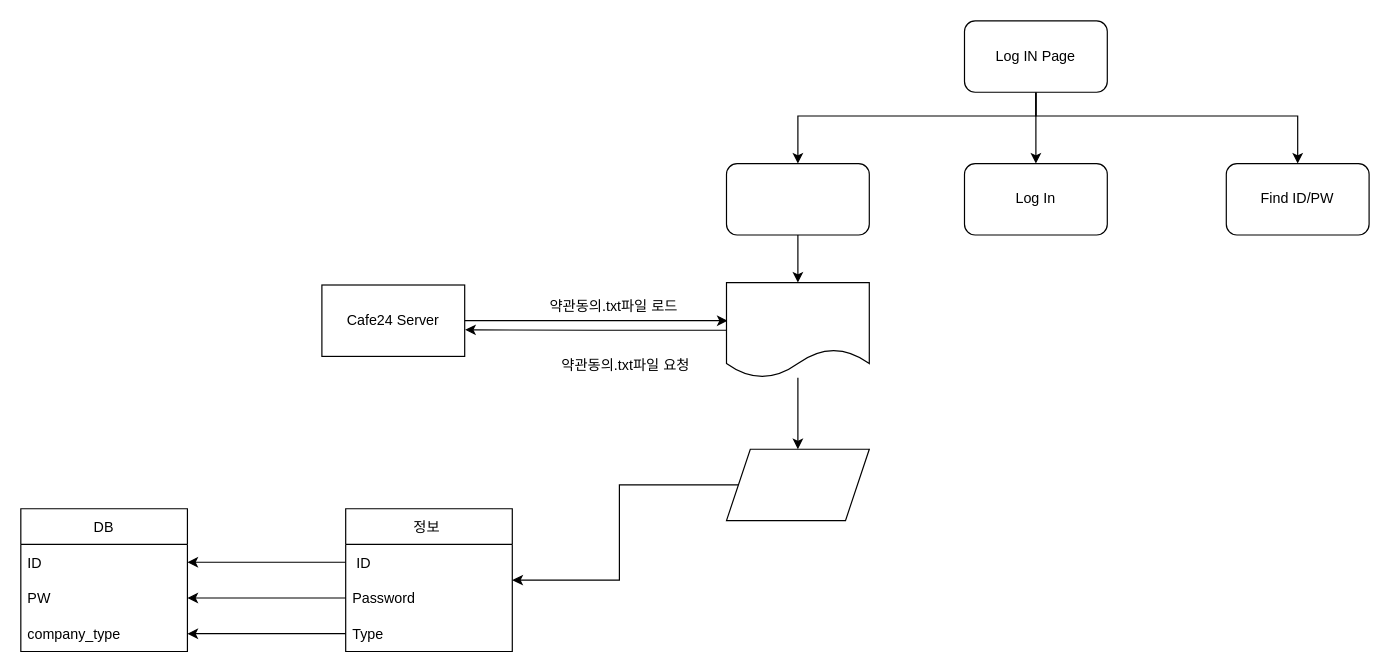
This 1390x672 diagram has some shape labels left out. Each missing label, with the centre of its shape:
Create ID: the point at 797,198
약관 동의: the point at 797,329
정보입력: the point at 797,484
